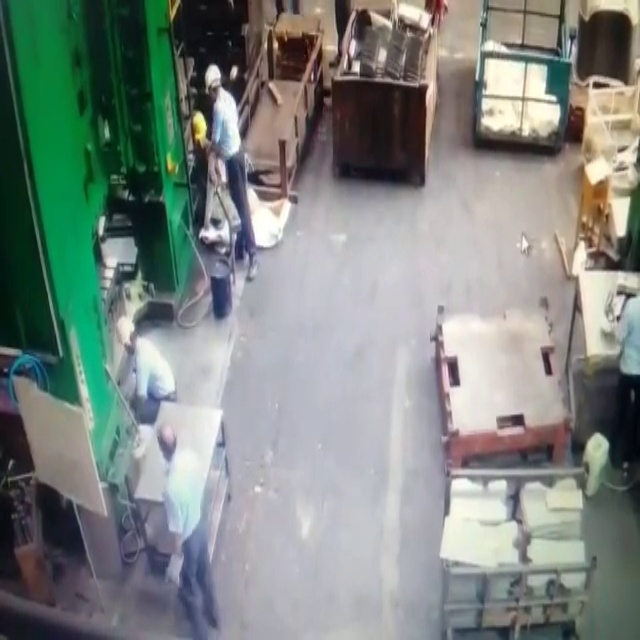safety_helmet: (191, 111, 207, 147), (204, 63, 222, 93)
